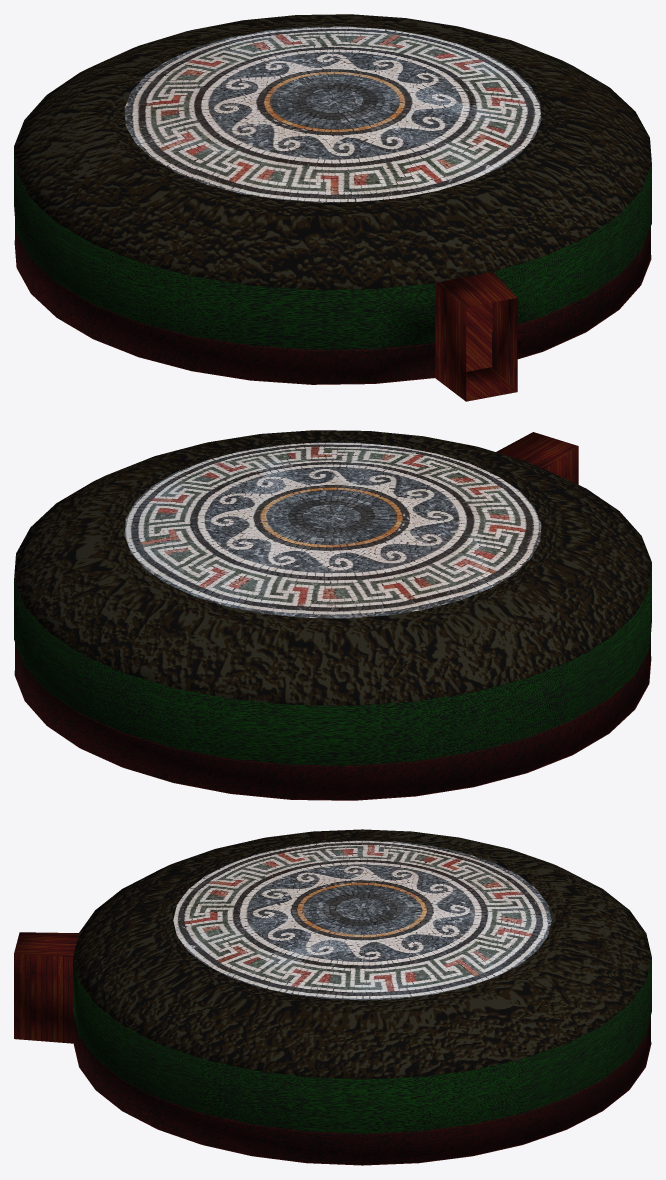
The model's file is Round Room (1).fbx.
3 views of the same model, one above another, from view 1: azimuth 30°, elevation 25°; view 2: azimuth 150°, elevation 25°; view 3: azimuth 270°, elevation 25° (orthographic). The views are drawn at different scales.
Visible parts, largest first — view 1: Cylinder.008, Cylinder.006, Cylinder.007, Cylinder.005; view 2: Cylinder.008, Cylinder.006, Cylinder.007, Cylinder.005; view 3: Cylinder.008, Cylinder.006, Cylinder.007, Cylinder.005.
Part boxes in pixels (x1,y1,x2,y2): Cylinder.008: (14,14,651,289); Cylinder.006: (14,137,651,384); Cylinder.007: (435,272,517,401); Cylinder.005: (14,240,651,384); Cylinder.008: (14,430,651,705); Cylinder.006: (14,553,651,800); Cylinder.007: (496,432,578,484); Cylinder.005: (14,656,651,800); Cylinder.008: (73,829,651,1079); Cylinder.006: (73,935,651,1164); Cylinder.007: (14,932,78,1043); Cylinder.005: (73,1042,651,1165).
Size of the model in its own units: 1502 by 388 by 1655.
Materials: 5 (5 with a texture image).
